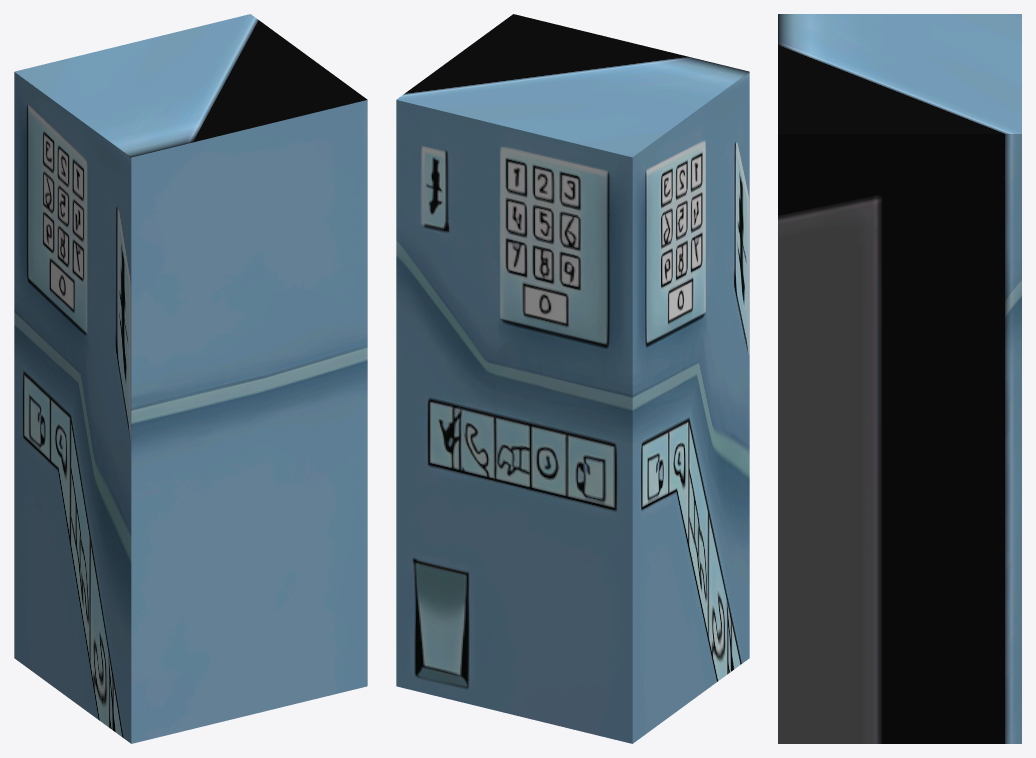
Rendered from Pay2.glb.
3 views of the same model, side by side, from view 1: azimuth 30°, elevation 25°; view 2: azimuth 150°, elevation 25°; view 3: azimuth 270°, elevation 25° (orthographic). The views are drawn at different scales.
Parts seen in each view (by area): view 1: Pay2; view 2: Pay2; view 3: Pay2.
Boxes of the visible parts, x1=… form: Pay2: x1=14, y1=14, x2=367, y2=743; Pay2: x1=396, y1=14, x2=749, y2=743; Pay2: x1=778, y1=14, x2=1021, y2=743.
Bounding box in the file's own units: 30.92 × 73.32 × 26.57.
Materials: 1 (1 with a texture image).
